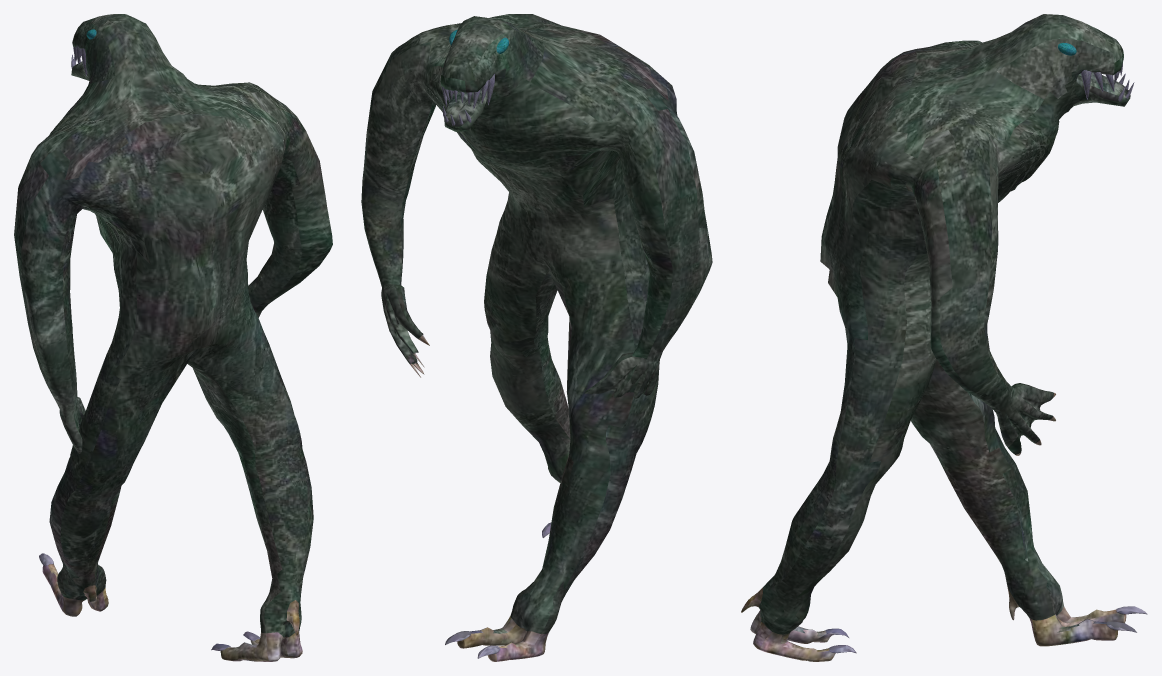
File: Andar.0009.obj
3 views of the same model, side by side, from view 1: azimuth 30°, elevation 25°; view 2: azimuth 150°, elevation 25°; view 3: azimuth 270°, elevation 25° (orthographic). The views are drawn at different scales.
Visible parts, largest first — view 1: polySurface28; view 2: polySurface28; view 3: polySurface28.
Part boxes in pixels (left/top/right/bottom): polySurface28: left=14, top=14, right=332, bottom=661; polySurface28: left=361, top=14, right=712, bottom=661; polySurface28: left=741, top=14, right=1147, bottom=661.
Bounding box in the file's own units: 1.26 × 2.28 × 1.31.
4 materials, 4 textured.
